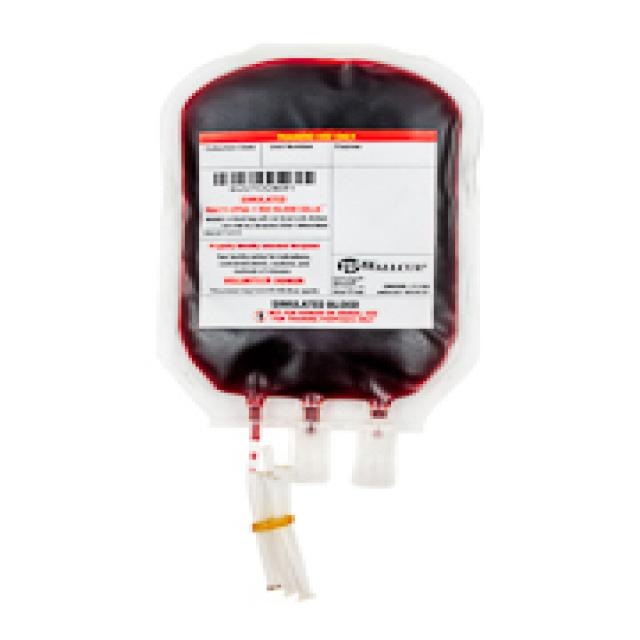B3: (136, 39, 498, 498)
